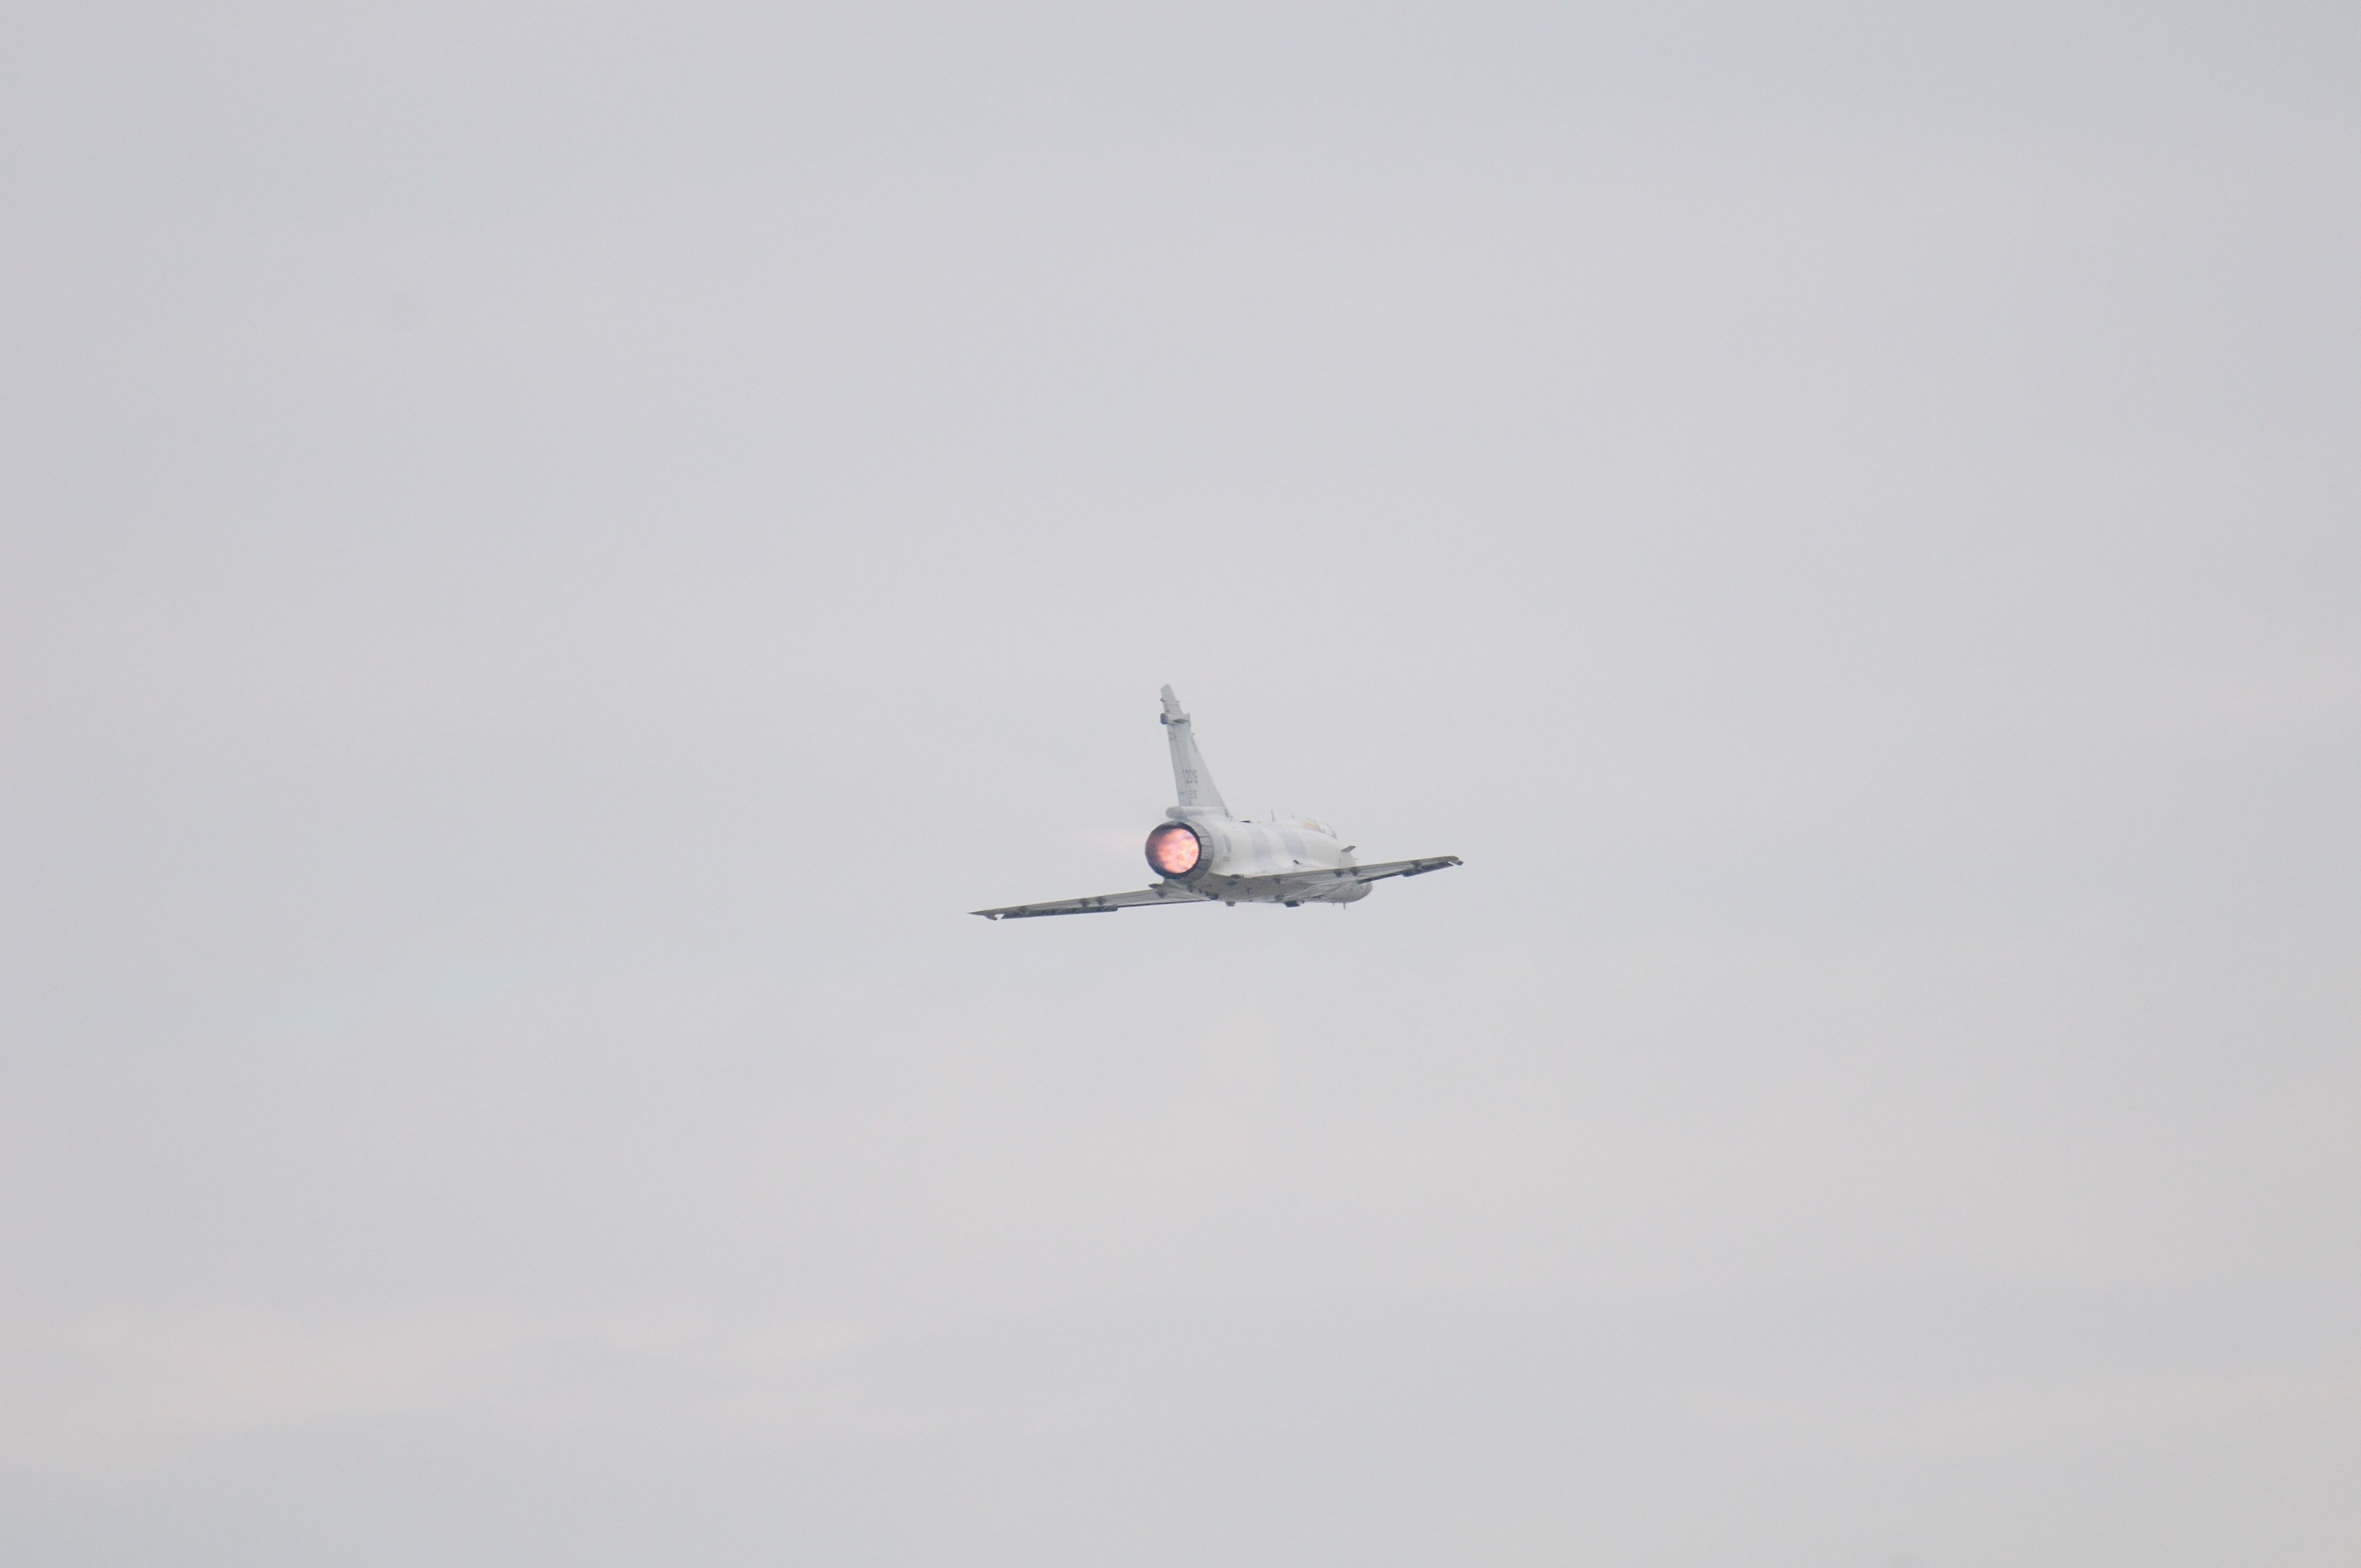Mirage2000: (964, 682, 1465, 920)
